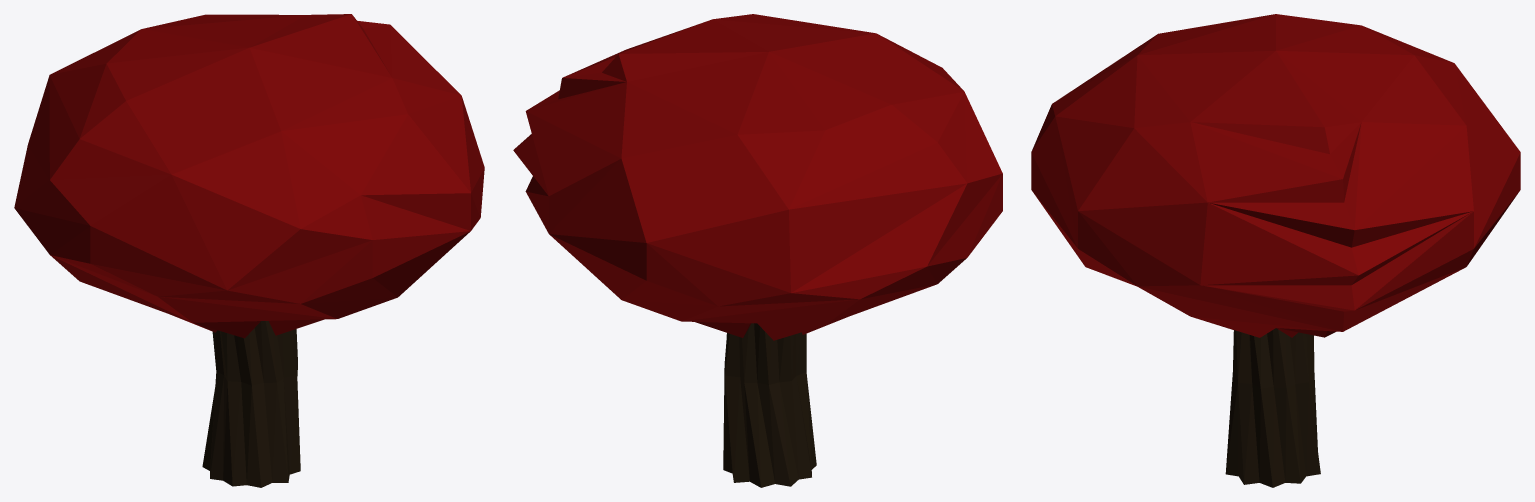
File: ShortFatTree_Red.fbx
3 views of the same model, side by side, from view 1: azimuth 30°, elevation 25°; view 2: azimuth 150°, elevation 25°; view 3: azimuth 270°, elevation 25° (orthographic).
Visible parts, largest first — view 1: Trees:pSphere3, Trees:pCylinder3; view 2: Trees:pSphere3, Trees:pCylinder3; view 3: Trees:pSphere3, Trees:pCylinder3.
Boxes of the visible parts, <box> form: Trees:pSphere3: <box>14,14,484,338</box>; Trees:pCylinder3: <box>202,321,300,487</box>; Trees:pSphere3: <box>513,14,1002,340</box>; Trees:pCylinder3: <box>723,323,816,487</box>; Trees:pSphere3: <box>1031,14,1520,337</box>; Trees:pCylinder3: <box>1225,328,1320,487</box>.
Bounding box in the file's own units: 0.2629 × 0.2542 × 0.2702.
